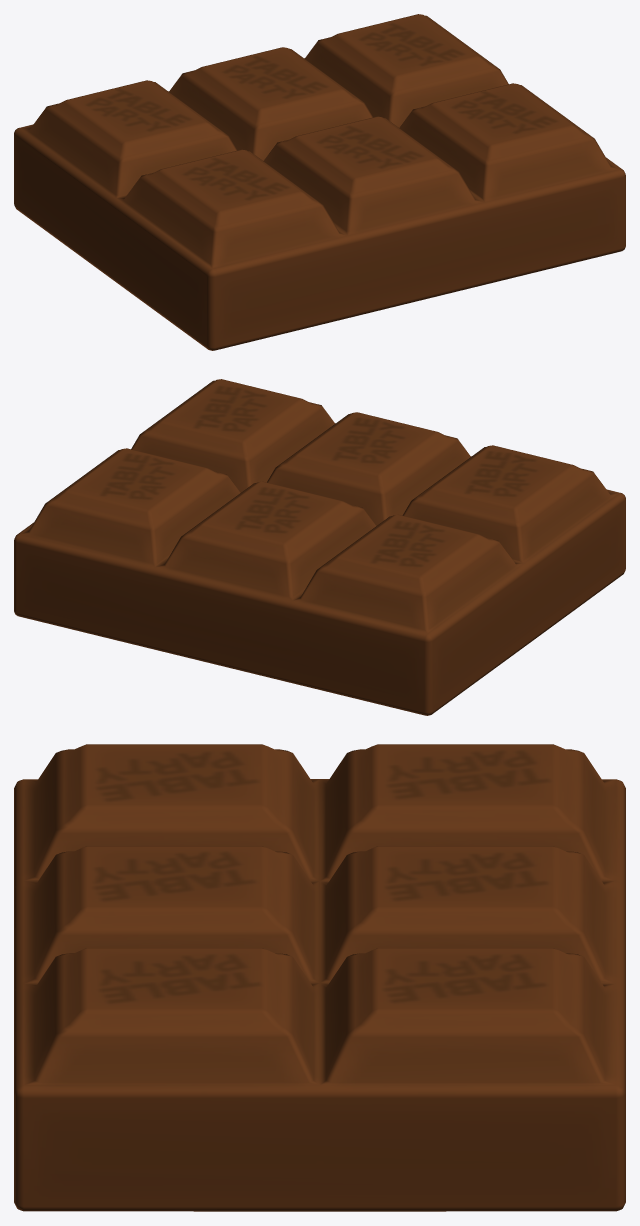
File: StackUp_Chocolate.fbx
The picture shows the model from 3 angles, top to bottom: view 1: azimuth 30°, elevation 25°; view 2: azimuth 150°, elevation 25°; view 3: azimuth 270°, elevation 25°; orthographic projection. The views are drawn at different scales.
Visible parts, largest first — view 1: StackUp_Chocolate; view 2: StackUp_Chocolate; view 3: StackUp_Chocolate.
Boxes of the visible parts, x1,y1,x2,y2 form: StackUp_Chocolate: (14,14,625,350); StackUp_Chocolate: (14,379,625,715); StackUp_Chocolate: (14,744,625,1211).
Size of the model in its own units: 14.37 by 3.88 by 11.82.
